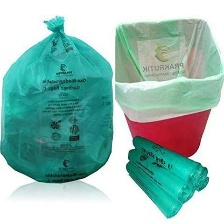plastic_bag: (0, 7, 121, 184), (111, 15, 224, 124), (127, 133, 211, 182), (125, 146, 194, 203), (123, 160, 183, 218), (183, 171, 216, 204)
